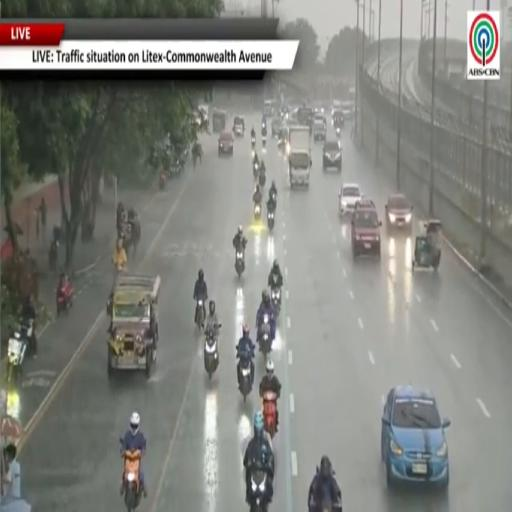car: (381, 386, 450, 488), (351, 199, 381, 260), (385, 195, 413, 232), (339, 184, 362, 217), (322, 140, 342, 173), (219, 132, 233, 156), (313, 119, 326, 141), (341, 101, 354, 120), (332, 109, 344, 129), (233, 116, 244, 136), (271, 118, 282, 137), (331, 100, 341, 115), (313, 102, 324, 114)
jeepney: (108, 275, 160, 377)
motorcycle: (123, 451, 142, 511), (7, 328, 28, 382), (249, 470, 267, 511), (204, 329, 218, 378), (263, 391, 276, 438), (258, 314, 272, 357), (239, 359, 253, 402), (57, 283, 73, 315), (309, 498, 342, 511), (48, 238, 58, 271), (195, 299, 205, 329), (271, 285, 281, 315), (235, 250, 244, 278), (267, 211, 274, 231), (259, 170, 266, 187), (159, 173, 166, 190), (254, 203, 261, 220), (253, 162, 259, 179), (336, 126, 341, 137), (262, 136, 266, 148), (252, 137, 255, 149), (252, 149, 255, 159)
tricycle: (412, 220, 441, 270)
truck: (288, 125, 311, 187)
